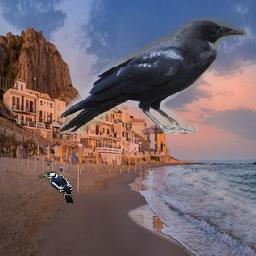Crow: (61, 18, 248, 135)
Woodpecker: (40, 172, 75, 205)
